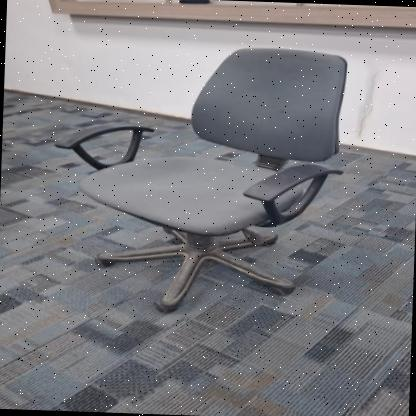chair: (44, 32, 360, 318)
